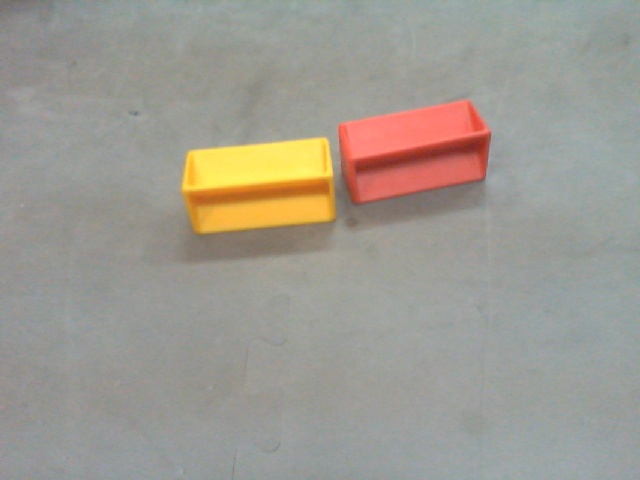RedSample: (337, 96, 493, 210)
YellowSample: (179, 136, 337, 237)
